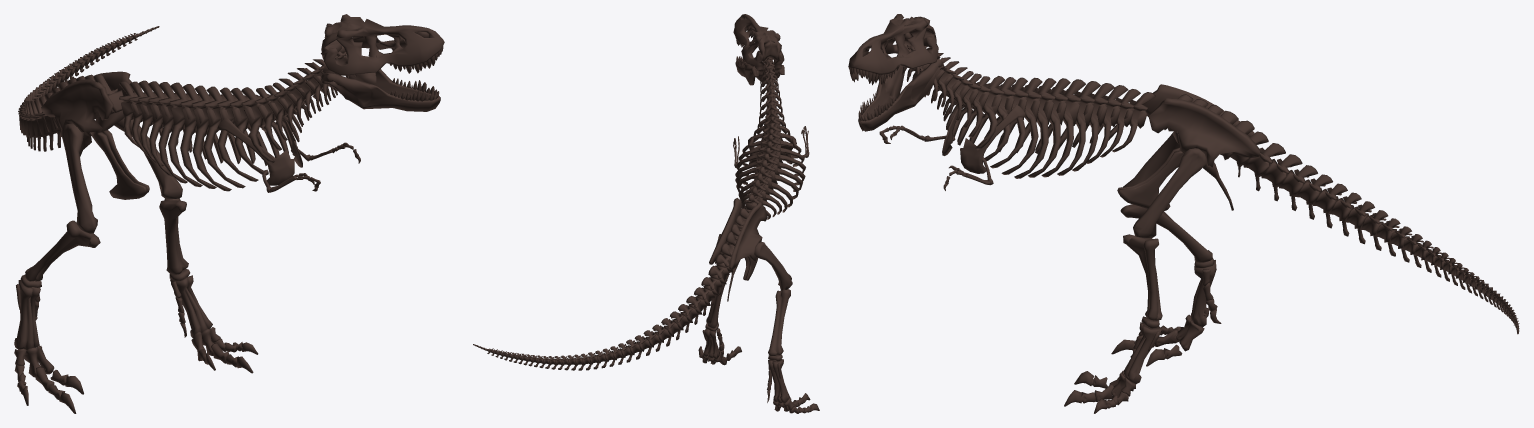
The picture shows the model from 3 angles, left to right: view 1: azimuth 30°, elevation 25°; view 2: azimuth 150°, elevation 25°; view 3: azimuth 270°, elevation 25°; orthographic projection. The views are drawn at different scales.
Visible parts, largest first — view 1: 3D Models at 3dxy, pelvis, skull, jaw, tail, R_Hip, R_Ankle, L_Knee, R_Knee, R_Blade, L_Ankle, L_Hip; view 2: 3D Models at 3dxy, tail, pelvis, skull, R_Knee, R_Hip, R_Ankle, jaw, L_Ankle, L_Knee; view 3: 3D Models at 3dxy, tail, pelvis, skull, jaw, L_Hip, L_Knee, R_Knee, L_Ankle, L_blade, R_Ankle, R_Hip.
Boxes of the visible parts, <box> form: 3D Models at 3dxy: <box>119,51,356,191</box>; pelvis: <box>41,71,149,199</box>; skull: <box>321,14,444,75</box>; jaw: <box>320,53,440,111</box>; tail: <box>18,26,159,151</box>; R_Hip: <box>60,123,97,233</box>; R_Ankle: <box>14,274,41,350</box>; L_Knee: <box>159,198,188,274</box>; R_Knee: <box>25,220,100,281</box>; R_Blade: <box>217,117,294,185</box>; L_Ankle: <box>169,269,212,337</box>; L_Hip: <box>114,117,182,199</box>; 3D Models at 3dxy: <box>735,57,805,219</box>; tail: <box>473,254,733,370</box>; pelvis: <box>709,198,767,301</box>; skull: <box>733,14,784,76</box>; R_Knee: <box>768,289,790,355</box>; R_Hip: <box>754,242,792,290</box>; R_Ankle: <box>768,354,790,403</box>; jaw: <box>735,56,784,85</box>; L_Ankle: <box>702,322,719,358</box>; L_Knee: <box>706,273,729,328</box>; 3D Models at 3dxy: <box>896,45,1155,178</box>; tail: <box>1230,131,1519,334</box>; pelvis: <box>1117,84,1260,210</box>; skull: <box>848,14,940,85</box>; jaw: <box>858,58,944,131</box>; L_Hip: <box>1133,148,1207,238</box>; L_Knee: <box>1123,234,1162,320</box>; R_Knee: <box>1120,204,1212,262</box>; L_Ankle: <box>1123,316,1161,384</box>; L_blade: <box>960,104,1026,173</box>; R_Ankle: <box>1191,258,1216,326</box>; R_Hip: <box>1123,132,1179,200</box>.
Size of the model in its own units: 5285 by 6678 by 9728.
